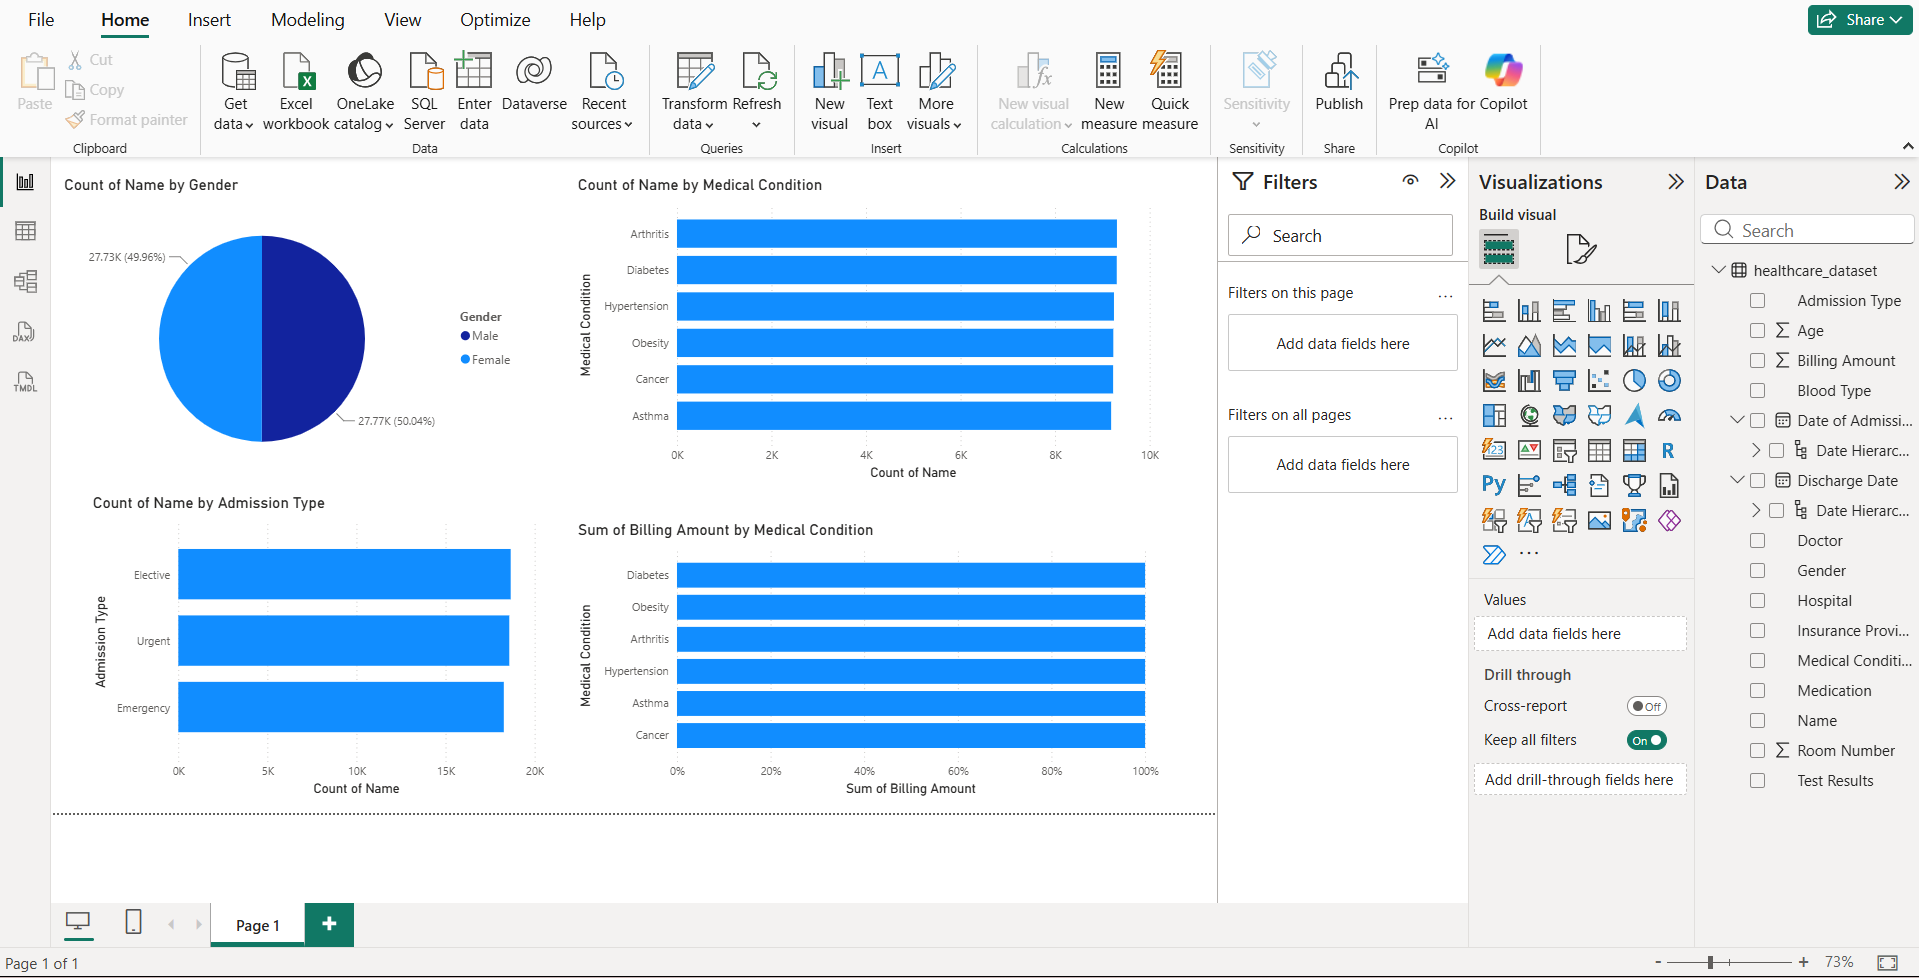

This screenshot's page, from the dashboard's own definition file:
{"tool":"powerbi","page":{"name":"Healthcare_Analytics_Dashboard","canvas":[1280,720],"ordinal":0},"visuals":[{"type":"pieChart","fields":{"Category":["healthcare_dataset.Gender"],"Y":["CountNonNull(healthcare_dataset.Name)"]},"box":[9.6,20.6,510.5,338.9],"z":0},{"type":"barChart","fields":{"Category":["healthcare_dataset.Medical Condition"],"Y":["CountNonNull(healthcare_dataset.Name)"]},"box":[573.6,20.6,647.7,338.9],"z":1},{"type":"clusteredBarChart","fields":{"Category":["healthcare_dataset.Admission Type"],"Y":["CountNonNull(healthcare_dataset.Name)"]},"box":[41.2,369.1,505,337.6],"z":2},{"type":"hundredPercentStackedBarChart","fields":{"Category":["healthcare_dataset.Medical Condition"],"Y":["Sum(healthcare_dataset.Billing Amount)"]},"box":[573.6,399.3,647.7,307.4],"z":3}]}

Visuals, with their boxes on the page's 1280x720 design canvas (x1, y1, x2, y2). These are canvas units, not pixel positions in the 1919x978 screenshot, which may show the page scaled, cropped or inside an application window:
pieChart - healthcare_dataset.Gender x CountNonNull(healthcare_dataset.Name): (x1=10, y1=21, x2=520, y2=360)
barChart - healthcare_dataset.Medical Condition x CountNonNull(healthcare_dataset.Name): (x1=574, y1=21, x2=1221, y2=360)
clusteredBarChart - healthcare_dataset.Admission Type x CountNonNull(healthcare_dataset.Name): (x1=41, y1=369, x2=546, y2=707)
hundredPercentStackedBarChart - healthcare_dataset.Medical Condition x Sum(healthcare_dataset.Billing Amount): (x1=574, y1=399, x2=1221, y2=707)
